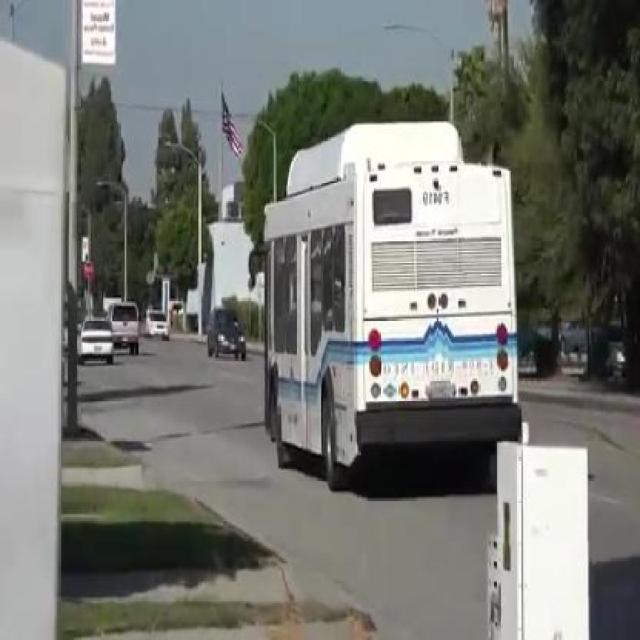bus: (260, 118, 524, 494)
car: (205, 307, 249, 366), (80, 313, 116, 371)
